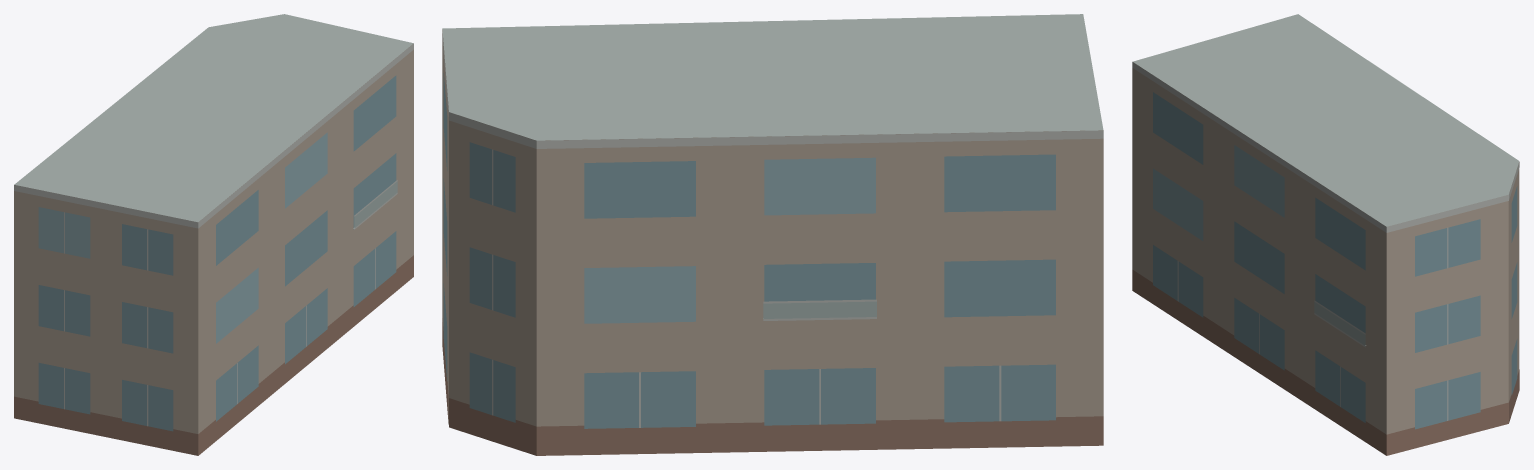
File: survey-upis-32792835.glb
3 views of the same model, side by side, from view 1: azimuth 30°, elevation 25°; view 2: azimuth 150°, elevation 25°; view 3: azimuth 270°, elevation 25° (orthographic). The views are drawn at different scales.
Visible parts, largest first — view 1: survey-upis-32792835.tmp; view 2: survey-upis-32792835.tmp; view 3: survey-upis-32792835.tmp.
Boxes of the visible parts, bbox=[...] form: survey-upis-32792835.tmp: bbox=[14, 14, 413, 455]; survey-upis-32792835.tmp: bbox=[442, 14, 1103, 455]; survey-upis-32792835.tmp: bbox=[1132, 14, 1519, 455].
Size of the model in its own units: 18.24 by 9.15 by 14.02.
